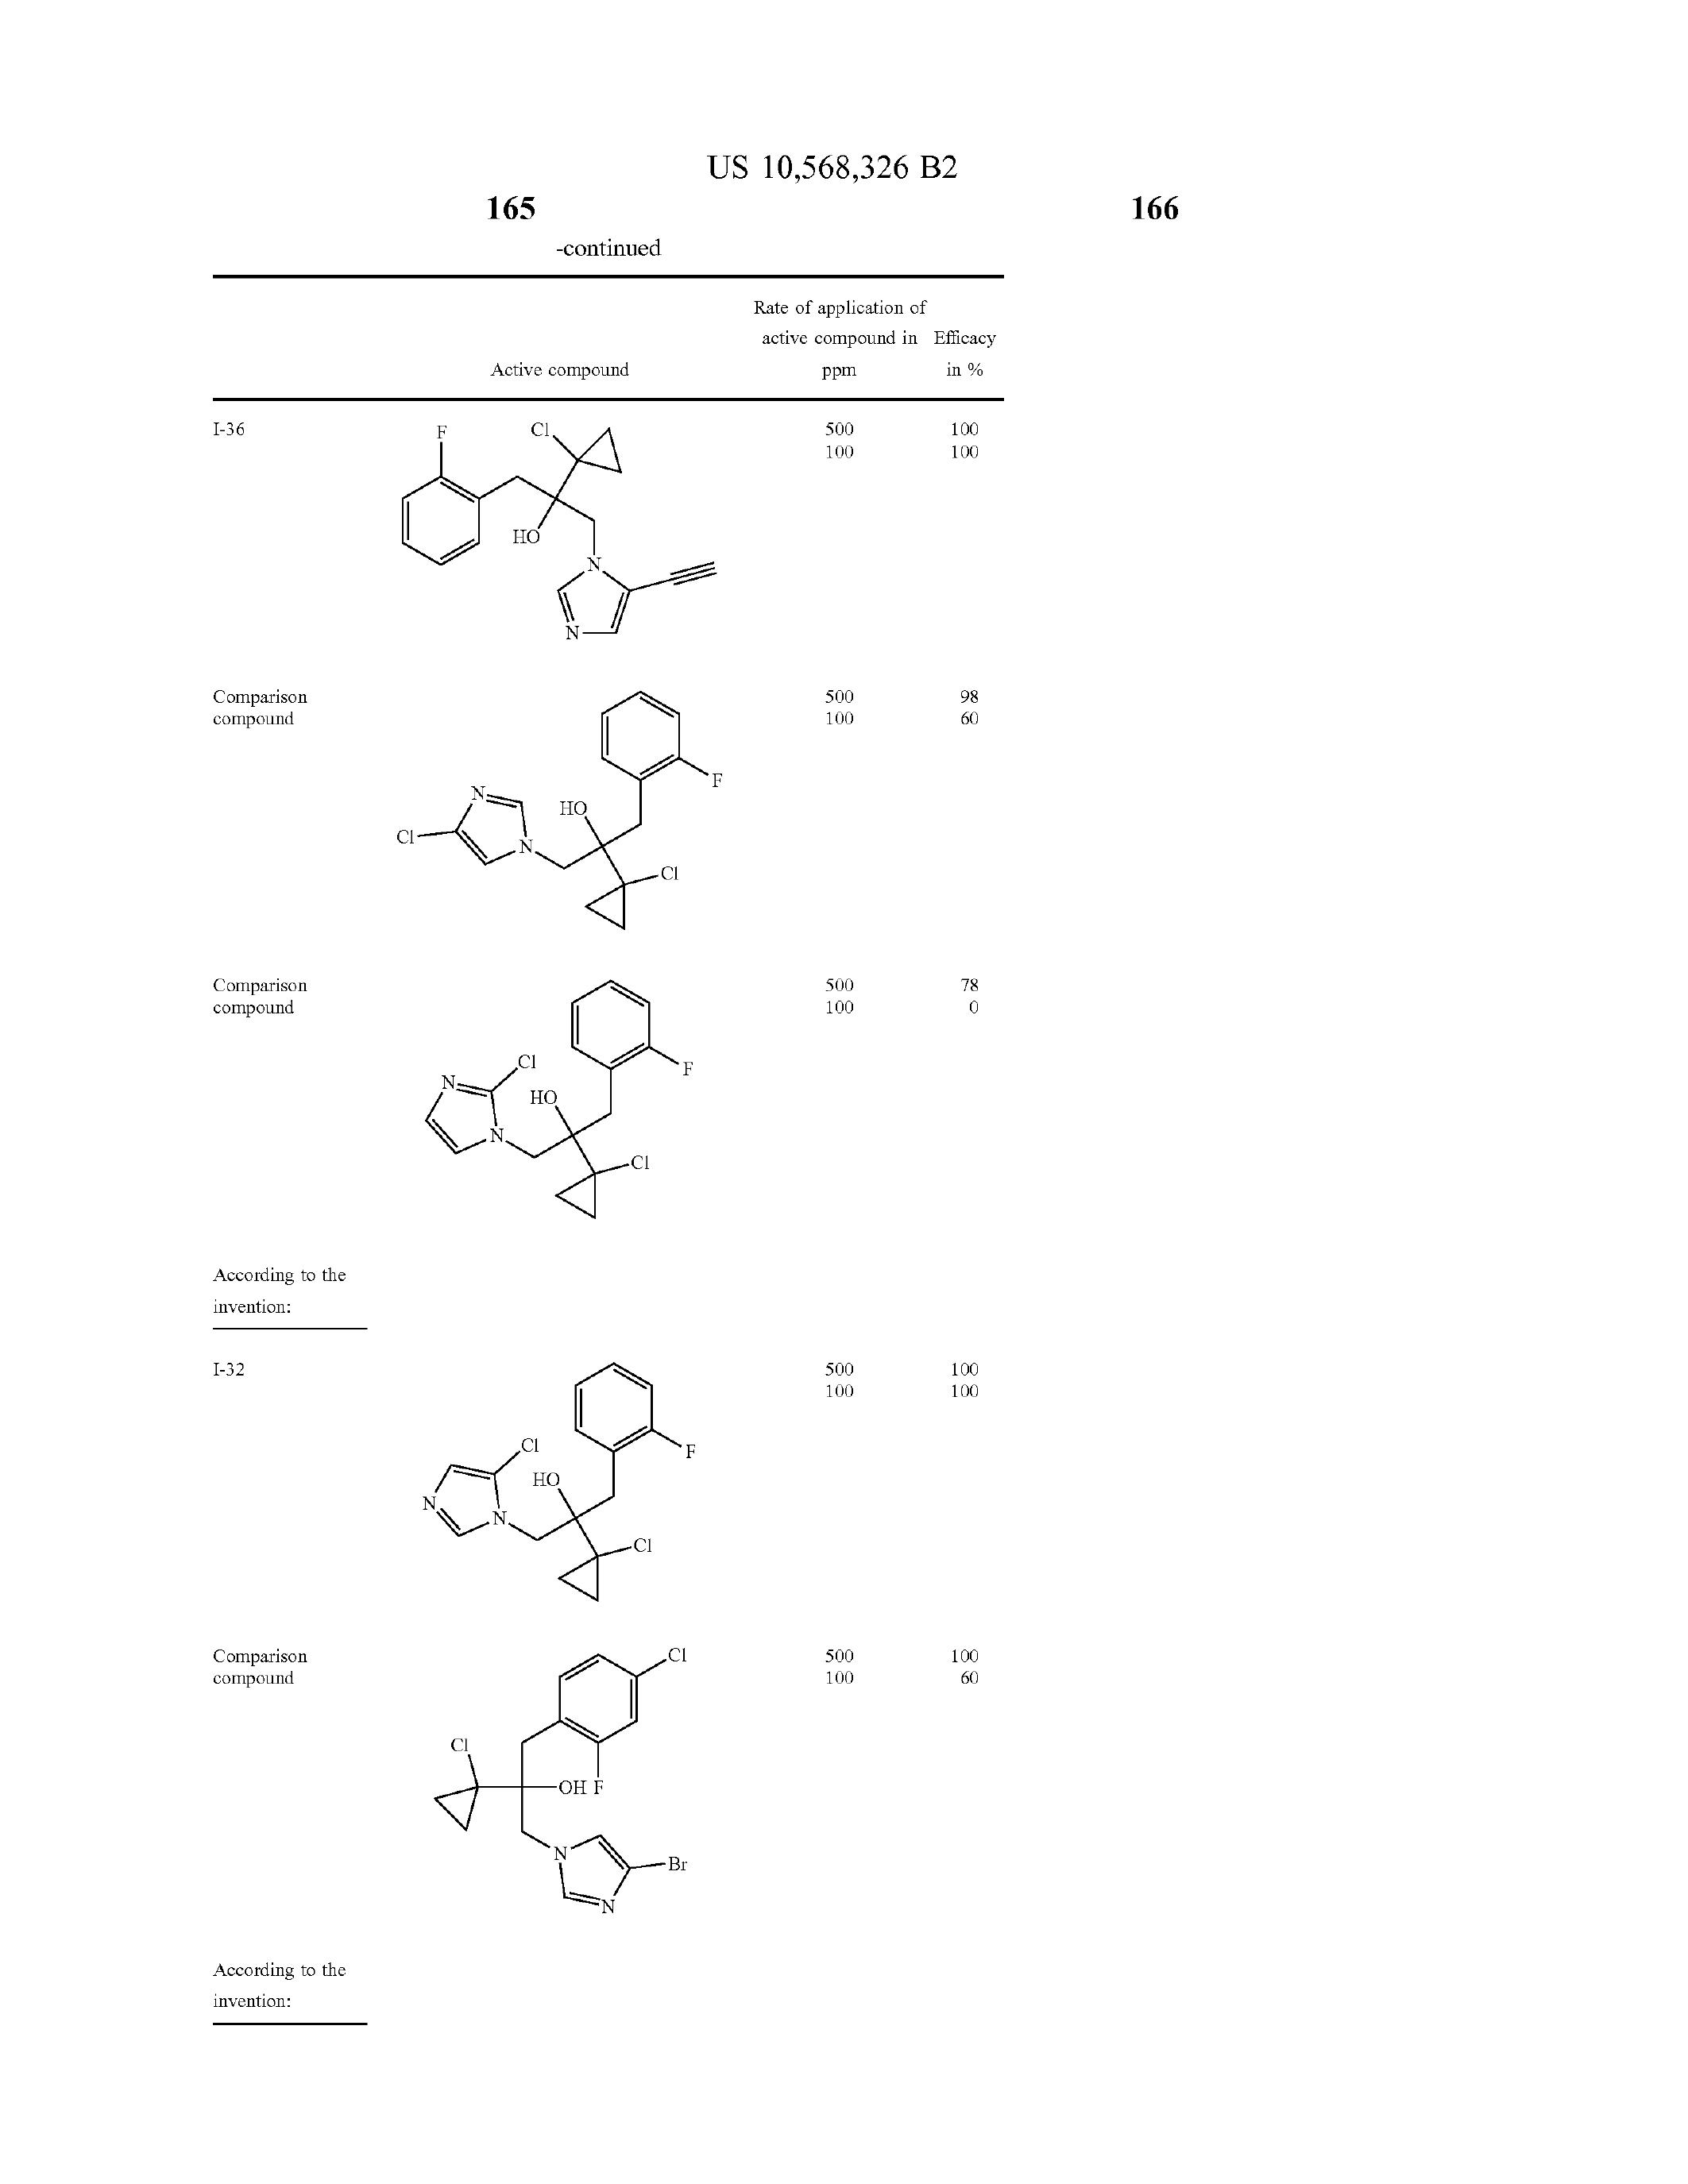relevant-structures: (367, 1642, 755, 1962), (390, 652, 761, 968), (415, 1324, 723, 1645), (374, 402, 757, 651), (404, 964, 716, 1246)
